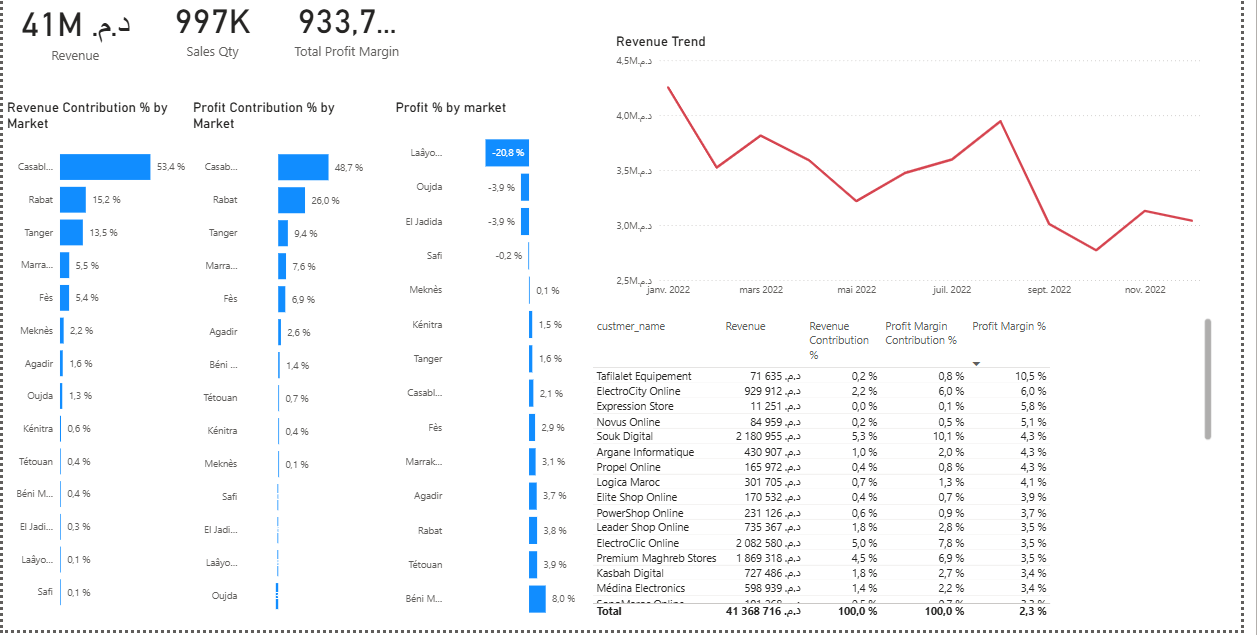

The page's visual inventory and layout, read from the dashboard file:
{"tool":"powerbi","page":{"name":"Profit Analysis","canvas":[1550,850],"ordinal":1},"visuals":[{"type":"card","fields":{"Values":["BaseMeasures (2).Revenue"]},"box":[0,11.9,180.2,173.4],"z":0},{"type":"card","fields":{"Values":["BaseMeasures (2).Sales Qty"]},"box":[180.2,11.9,163.2,164.9],"z":1000},{"type":"barChart","title":"Profit % by market","fields":{"Category":["sales markets.markets_name"],"Y":["BaseMeasures (2).Profit Margin %"]},"box":[486.2,185.3,234.6,664.7],"z":2000},{"type":"barChart","title":"Profit Contribution % by Market","fields":{"Category":["sales markets.markets_name"],"Y":["BaseMeasures (2).Profit Margin Contribution %"]},"box":[232.9,185.3,222.7,659.6],"z":3000},{"type":"slicer","fields":{"Values":["sales date.year"]},"box":[561,0,341.7,66.3],"z":4000},{"type":"slicer","fields":{"Values":["sales date.cy_date"]},"box":[916.3,0,613.7,66.3],"z":5000},{"type":"tableEx","title":"Top 5 Customers","fields":{"Values":["sales customers.custmer_name","BaseMeasures (2).Revenue","BaseMeasures (2).Revenue Contribution %","BaseMeasures (2).Profit Margin Contribution %","BaseMeasures (2).Profit Margin %"]},"box":[732.7,453.9,785.4,385.9],"z":6000},{"type":"lineChart","title":"Revenue Trend","fields":{"Category":["sales date.cy_date"],"Y":["BaseMeasures (2).Revenue"]},"box":[761.6,103.7,756.5,338.3],"z":7000},{"type":"card","fields":{"Values":["BaseMeasures (2).Total Profit Margin"]},"box":[350.2,11.9,161.5,164.9],"z":8000},{"type":"barChart","title":"Revenue Contribution % by Market","fields":{"Category":["sales markets.markets_name"],"Y":["BaseMeasures (2).Revenue Contribution %"]},"box":[0,185.3,232.9,654.5],"z":9000}]}

Visuals, with their boxes on the page's 1550x850 design canvas (x1, y1, x2, y2). These are canvas units, not pixel positions in the 1260x635 screenshot, which may show the page scaled, cropped or inside an application window:
card - BaseMeasures (2).Revenue: region(0, 12, 180, 185)
card - BaseMeasures (2).Sales Qty: region(180, 12, 343, 177)
"Profit % by market" barChart: region(486, 185, 721, 850)
"Profit Contribution % by Market" barChart: region(233, 185, 456, 845)
slicer - sales date.year: region(561, 0, 903, 66)
slicer - sales date.cy_date: region(916, 0, 1530, 66)
"Top 5 Customers" tableEx: region(733, 454, 1518, 840)
"Revenue Trend" lineChart: region(762, 104, 1518, 442)
card - BaseMeasures (2).Total Profit Margin: region(350, 12, 512, 177)
"Revenue Contribution % by Market" barChart: region(0, 185, 233, 840)
